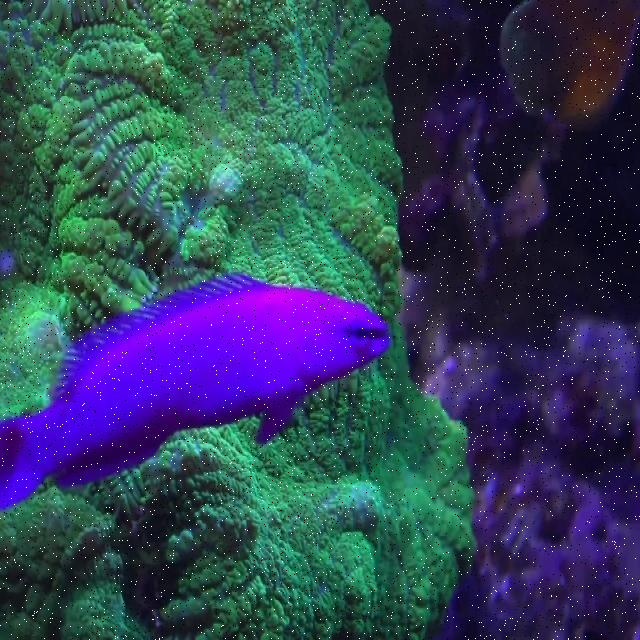fish: (0, 275, 394, 509)
reefs: (0, 3, 471, 637)
